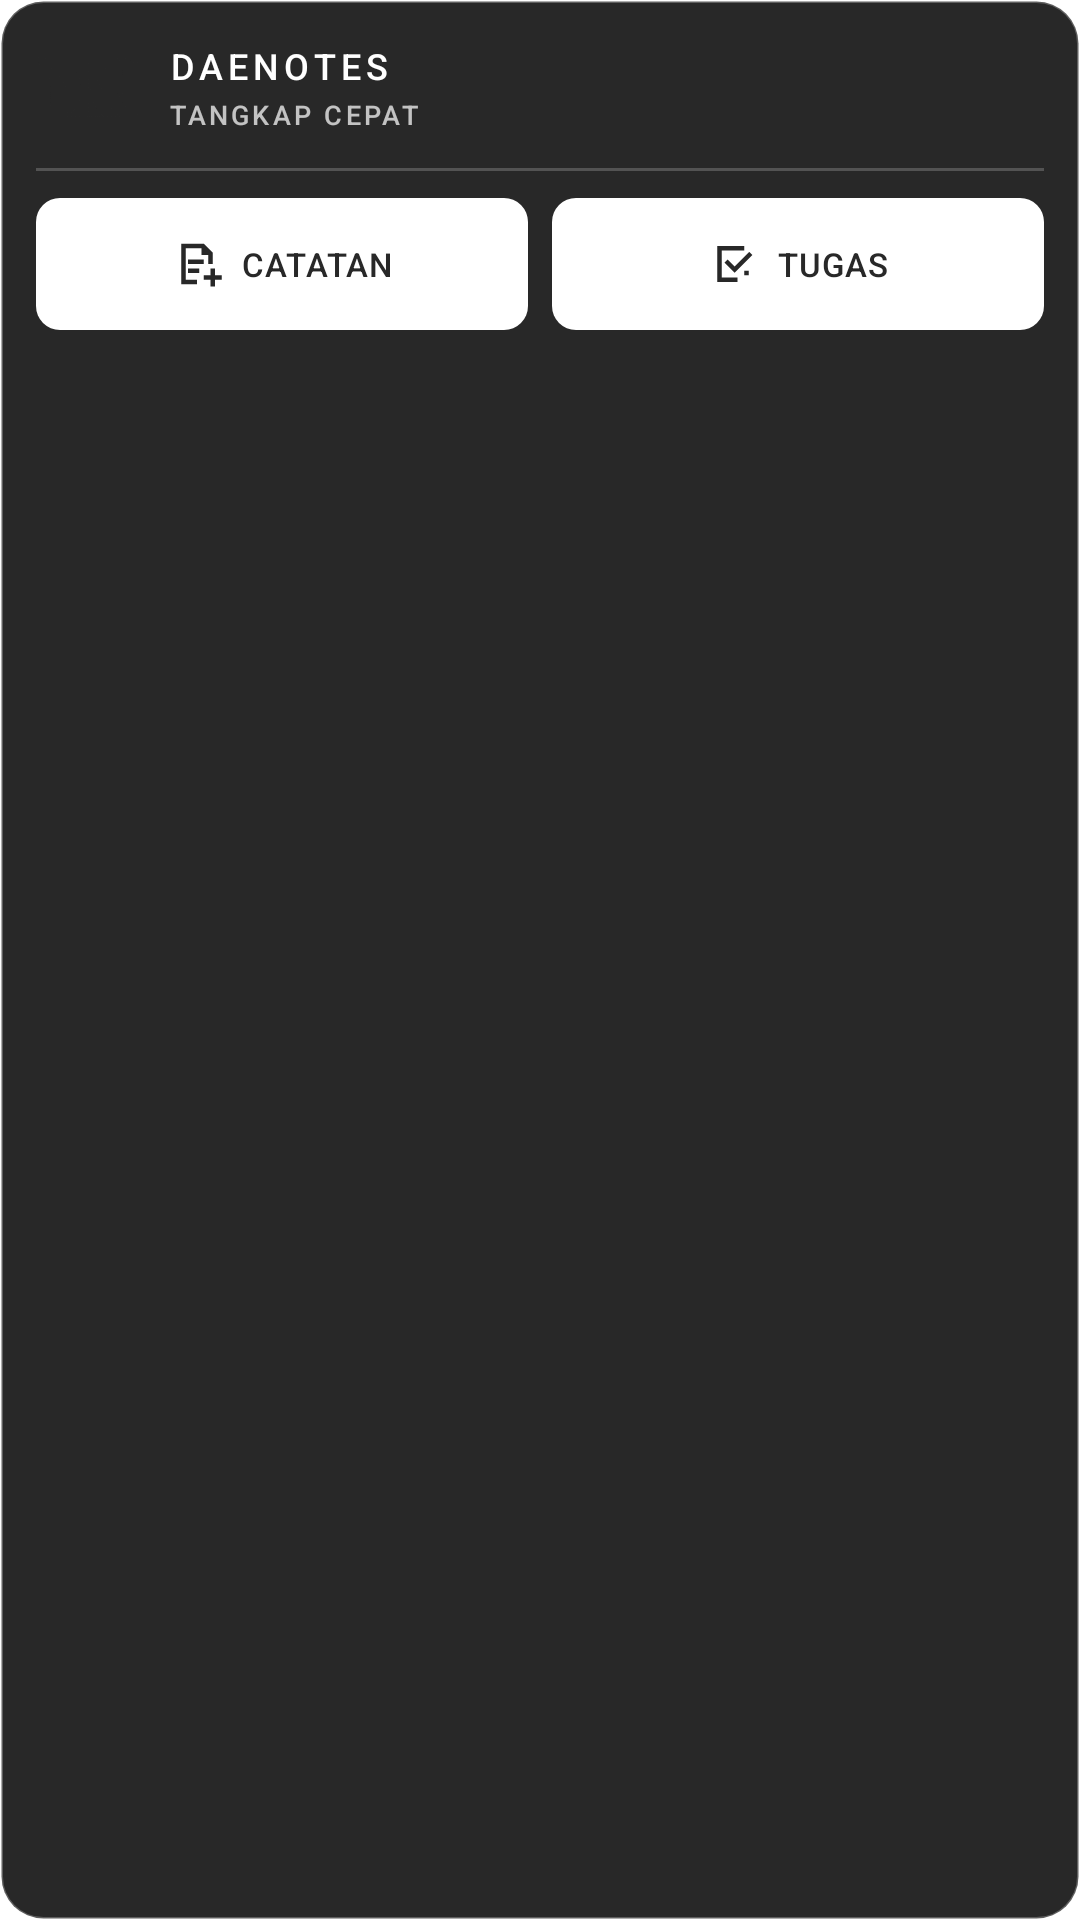

Where icons sit on this 1080 × 1920 app screen, as (x1=x1, y1=y1, x2=x2, y2=y2):
daenotes widget todo: (x1=717, y1=246, x2=752, y2=282)
